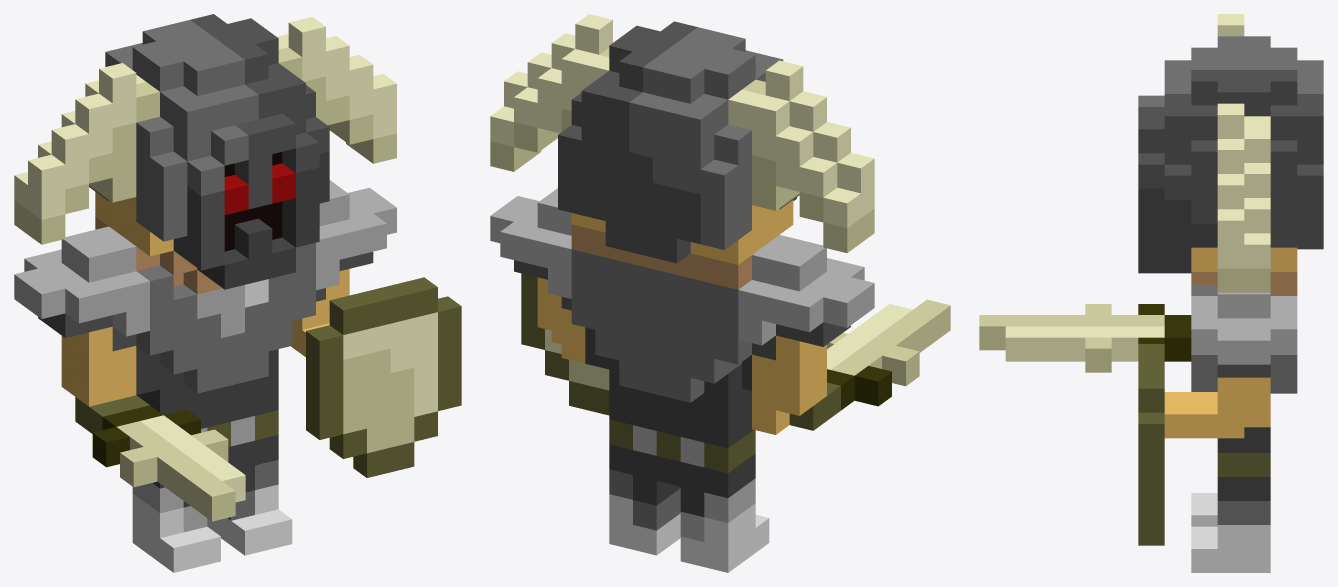
The model's file is Warrior.obj.
The picture shows the model from 3 angles, left to right: view 1: azimuth 30°, elevation 25°; view 2: azimuth 150°, elevation 25°; view 3: azimuth 270°, elevation 25°; orthographic projection. The views are drawn at different scales.
Bounding box in the file's own units: 16 × 20 × 13.
Materials: 1 (1 with a texture image).
